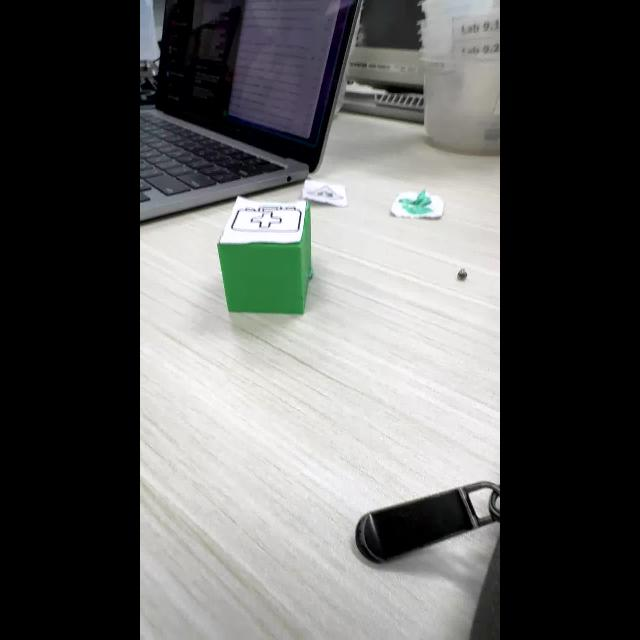Medkit: (231, 205, 301, 233)
